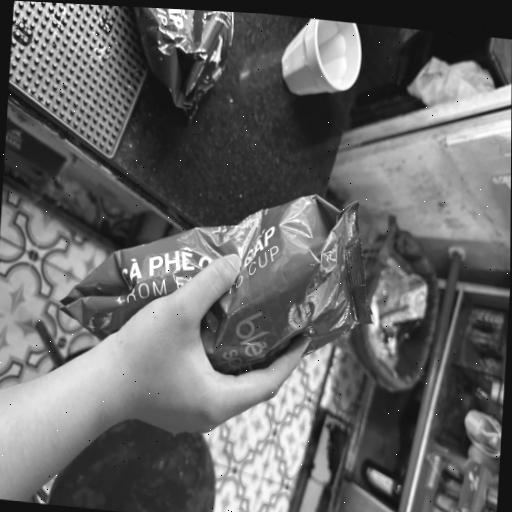cafe_xay: (41, 148, 372, 480)
